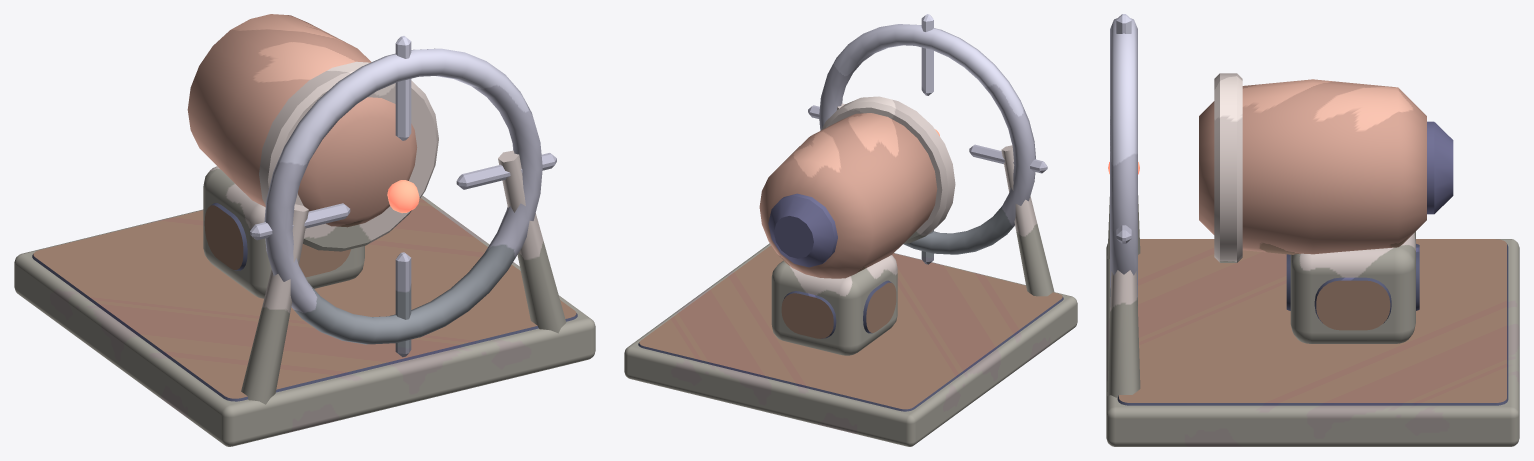
Rendered from R4X_WeakPointScanner.glb.
The picture shows the model from 3 angles, left to right: view 1: azimuth 30°, elevation 25°; view 2: azimuth 150°, elevation 25°; view 3: azimuth 270°, elevation 25°; orthographic projection. The views are drawn at different scales.
Visible parts, largest first — view 1: R4X_WeakPointScanner_Body; view 2: R4X_WeakPointScanner_Body; view 3: R4X_WeakPointScanner_Body.
Boxes of the visible parts, left/top/right/bottom form: R4X_WeakPointScanner_Body: left=14, top=14, right=595, bottom=446; R4X_WeakPointScanner_Body: left=624, top=14, right=1077, bottom=446; R4X_WeakPointScanner_Body: left=1106, top=14, right=1519, bottom=446.
Size of the model in its own units: 0.514 by 0.4803 by 0.514.
Materials: 5 (4 with a texture image).
